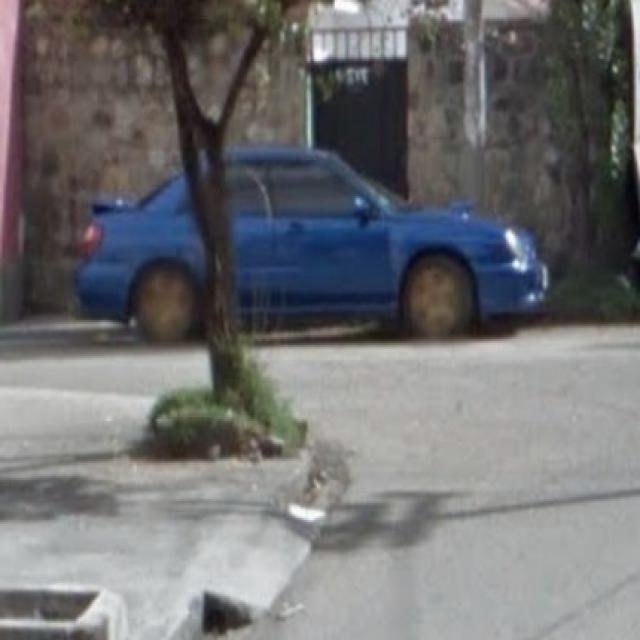Car: (77, 140, 550, 338)
